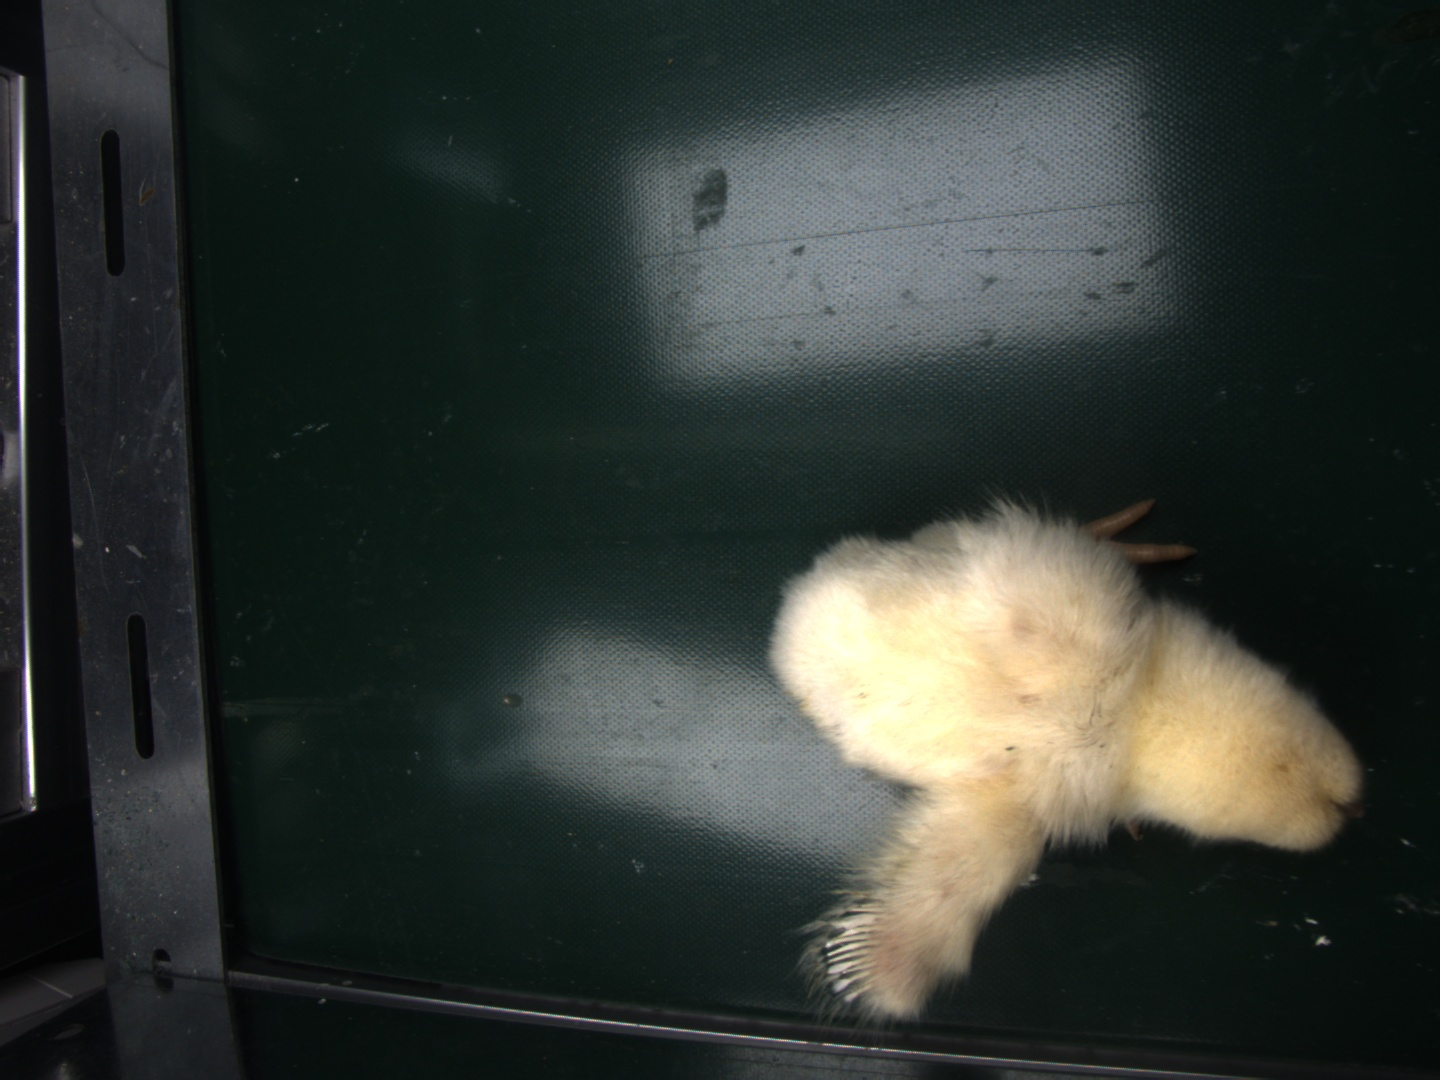male: (823, 902, 887, 1001)
